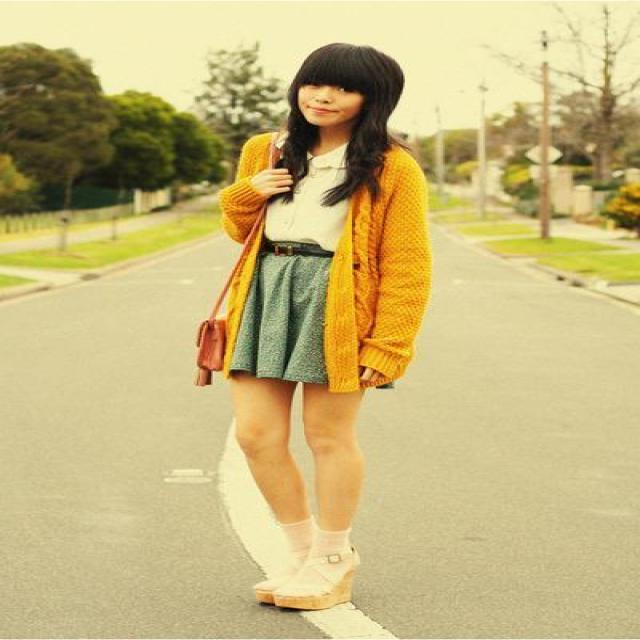bag: (197, 320, 248, 385)
jacket: (208, 134, 429, 392)
shirt: (258, 144, 346, 250)
shoe: (254, 513, 380, 609)
skirt: (229, 254, 331, 396)
